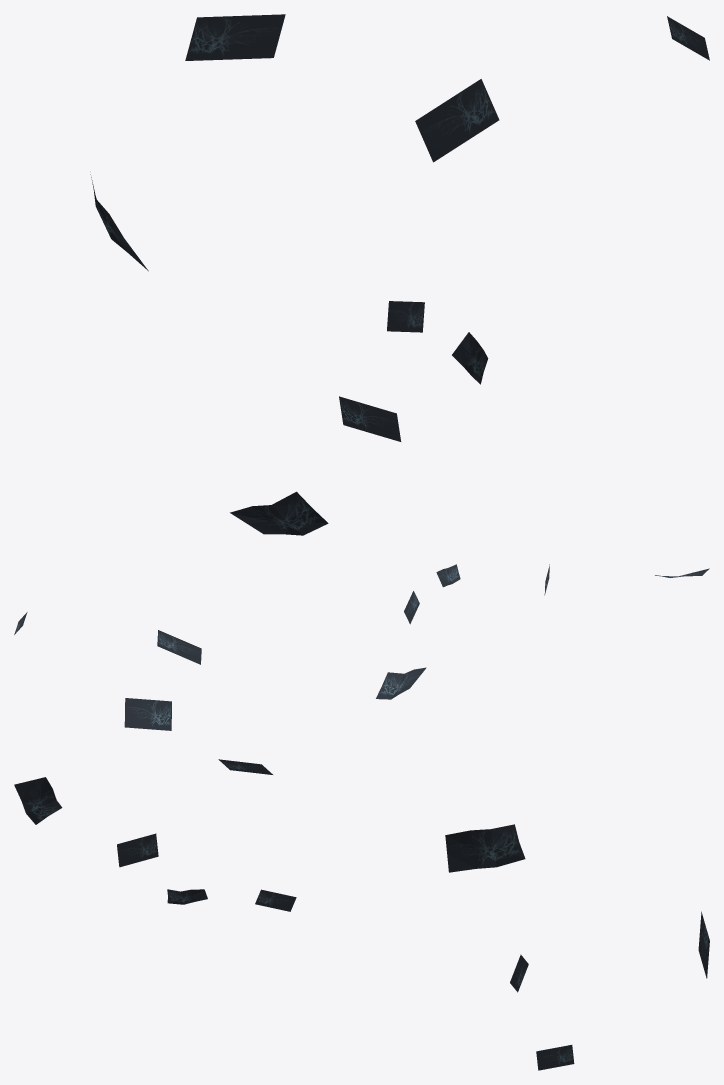
File: Area_08_1.FBX
3 renders of one model, top to bottom at view 1: azimuth 30°, elevation 25°; view 2: azimuth 150°, elevation 25°; view 3: azimuth 270°, elevation 25°, orthographic. The views are drawn at different scales.
Visible parts, largest first — view 1: Area_08_1; view 2: Area_08_1; view 3: Area_08_1.
Boxes of the visible parts, left/top/right/bottom form: Area_08_1: left=90, top=14, right=709, bottom=535; Area_08_1: left=14, top=564, right=709, bottom=730; Area_08_1: left=14, top=759, right=709, bottom=1070.
Size of the model in its own units: 7793 by 591 by 7617.
1 material, 1 textured.
